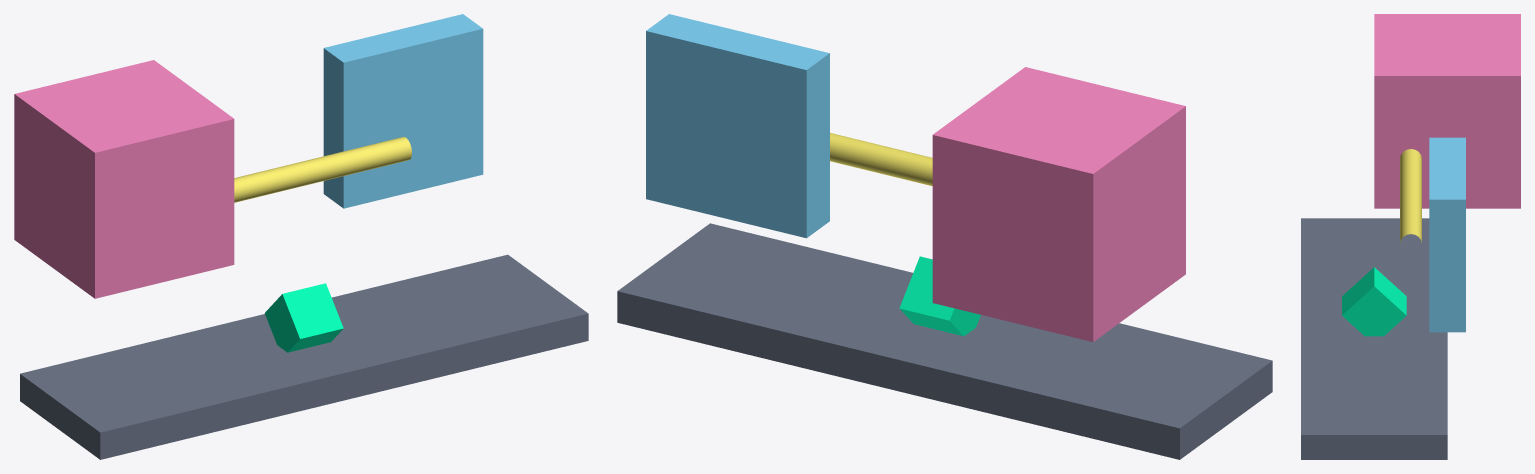
Rendered from multimedia_animation.glb.
3 renders of one model, left to right at view 1: azimuth 30°, elevation 25°; view 2: azimuth 150°, elevation 25°; view 3: azimuth 270°, elevation 25°, orthographic. The views are drawn at different scales.
Parts seen in each view (by area): view 1: AnimationTimelineTrack, RGBColorCube, DCTCompressionMatrix, BezierCurveGizmoHandle, KeyframeDiamondNode; view 2: AnimationTimelineTrack, RGBColorCube, DCTCompressionMatrix, BezierCurveGizmoHandle, KeyframeDiamondNode; view 3: AnimationTimelineTrack, RGBColorCube, DCTCompressionMatrix, KeyframeDiamondNode, BezierCurveGizmoHandle.
Part boxes in pixels (left/top/right/bottom): AnimationTimelineTrack: left=20, top=254, right=588, bottom=459; RGBColorCube: left=14, top=60, right=234, bottom=298; DCTCompressionMatrix: left=323, top=14, right=483, bottom=208; BezierCurveGizmoHandle: left=234, top=137, right=411, bottom=202; KeyframeDiamondNode: left=264, top=283, right=343, bottom=352; AnimationTimelineTrack: left=617, top=223, right=1272, bottom=459; RGBColorCube: left=932, top=67, right=1185, bottom=341; DCTCompressionMatrix: left=646, top=14, right=829, bottom=238; BezierCurveGizmoHandle: left=830, top=133, right=932, bottom=186; KeyframeDiamondNode: left=899, top=256, right=980, bottom=336; AnimationTimelineTrack: left=1301, top=218, right=1447, bottom=459; RGBColorCube: left=1374, top=14, right=1520, bottom=208; DCTCompressionMatrix: left=1429, top=137, right=1465, bottom=332; KeyframeDiamondNode: left=1342, top=267, right=1406, bottom=336; BezierCurveGizmoHandle: left=1400, top=149, right=1421, bottom=242.
Bounding box in the file's own units: 2.8 × 1.48 × 1.2.
